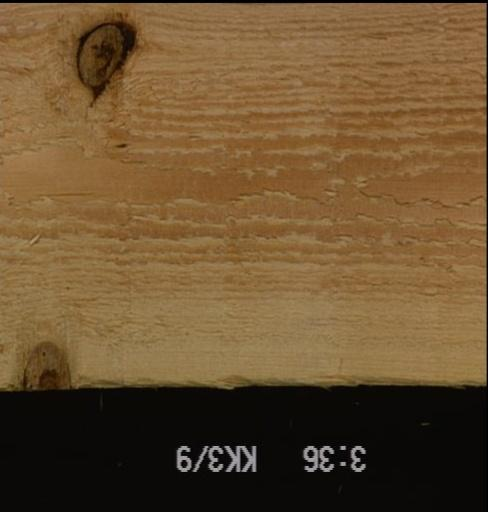edge_knot: (18, 339, 72, 388)
wave: (76, 373, 484, 389)
